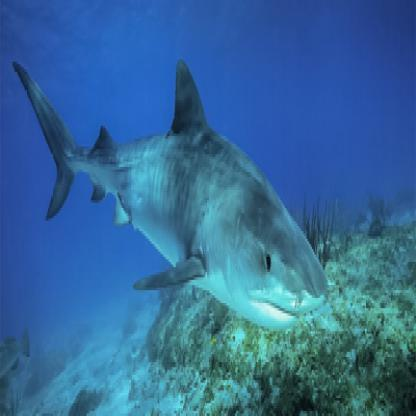shark: (5, 45, 335, 335)
